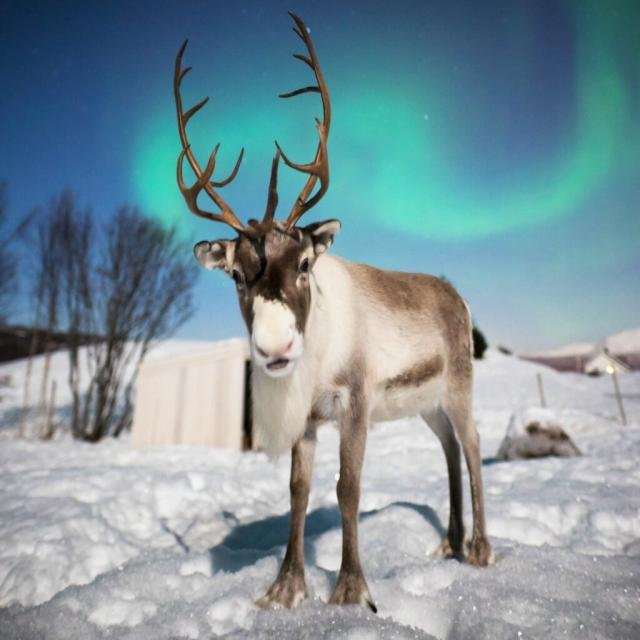Reindeer: (168, 9, 500, 611)
